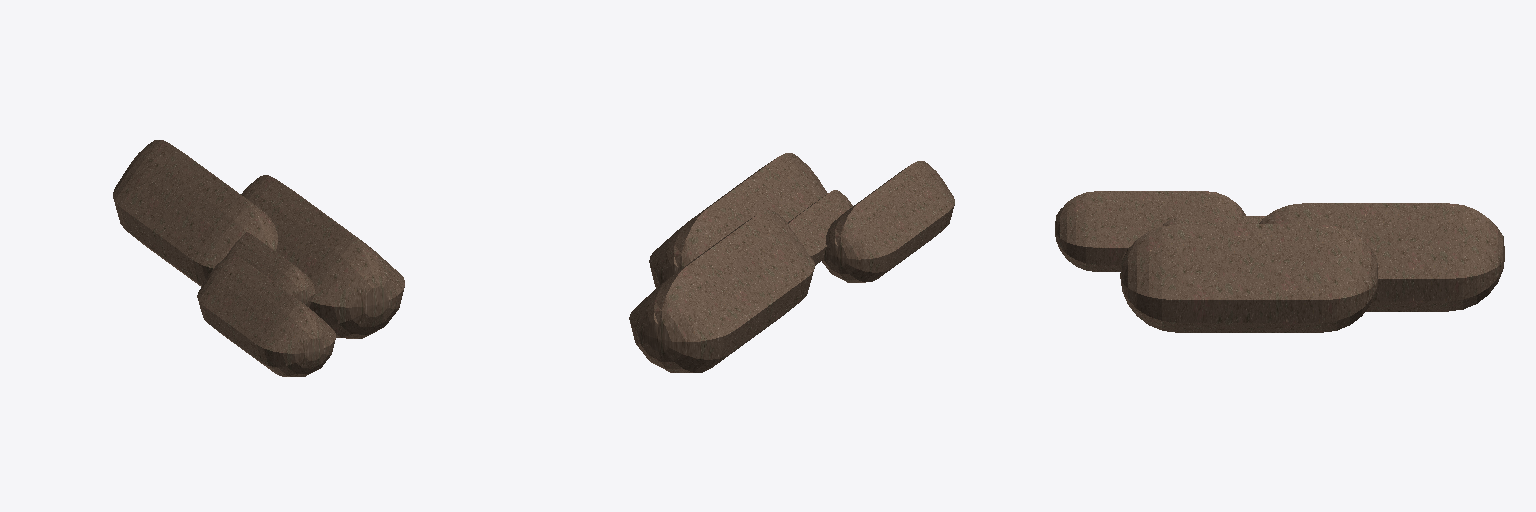
3 renders of one model, left to right at view 1: azimuth 30°, elevation 25°; view 2: azimuth 150°, elevation 25°; view 3: azimuth 270°, elevation 25°, orthographic.
Visible parts, largest first — view 1: Capsule004, Capsule003, Capsule001, Capsule002; view 2: Capsule004, Capsule001, Capsule003, Capsule002; view 3: Capsule003, Capsule004, Capsule001, Capsule002.
Boxes of the visible parts, x1=… form: Capsule004: x1=113, y1=140, x2=277, y2=286; Capsule003: x1=241, y1=175, x2=404, y2=338; Capsule001: x1=197, y1=255, x2=335, y2=376; Capsule002: x1=226, y1=232, x2=314, y2=307; Capsule004: x1=629, y1=210, x2=814, y2=372; Capsule001: x1=822, y1=161, x2=954, y2=282; Capsule003: x1=649, y1=153, x2=827, y2=287; Capsule002: x1=788, y1=190, x2=852, y2=265; Capsule003: x1=1120, y1=224, x2=1377, y2=332; Capsule004: x1=1259, y1=203, x2=1504, y2=311; Capsule001: x1=1055, y1=191, x2=1245, y2=271; Capsule002: x1=1163, y1=216, x2=1265, y2=225.
Bounding box in the file's own units: 30.95 × 16.87 × 66.83.
1 materials, 1 textured.